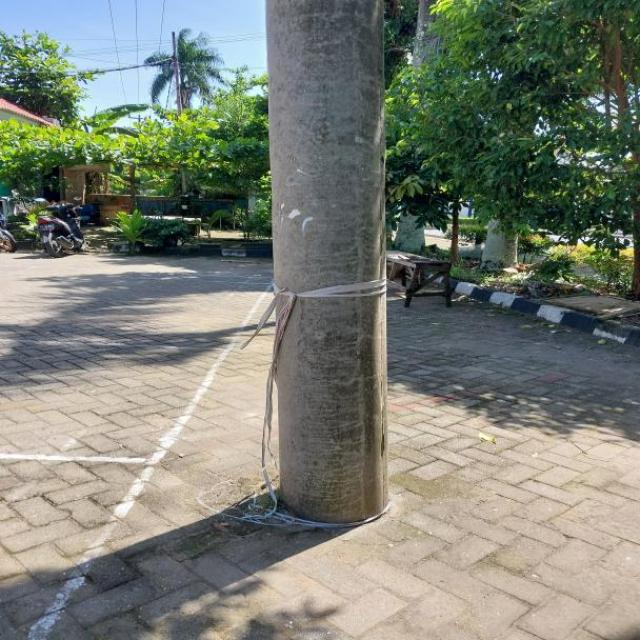tree ahead at: (252, 0, 390, 525)
